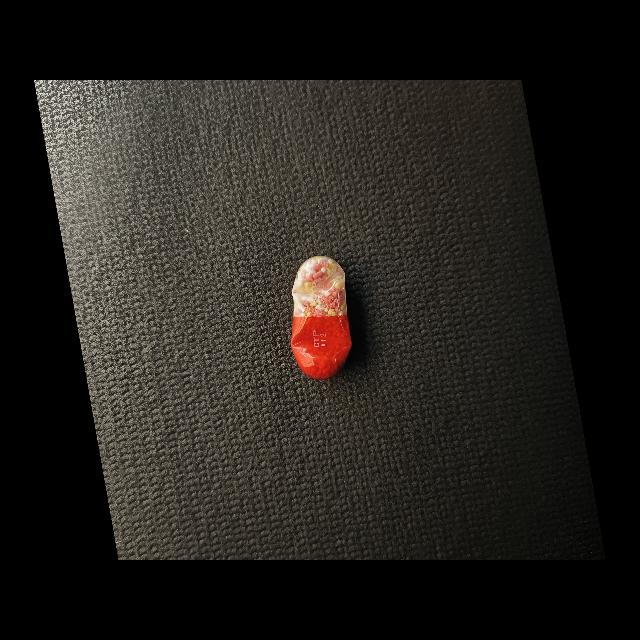Defective Capsule: (290, 256, 352, 380)
